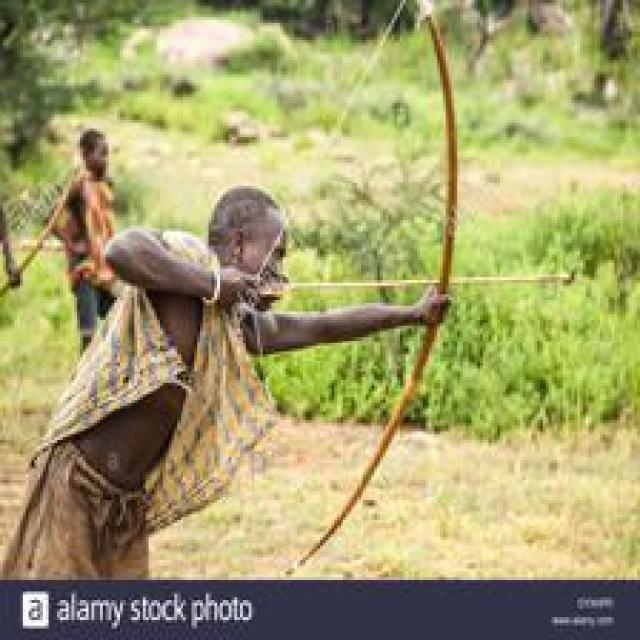X-Bow: (353, 13, 498, 578)
